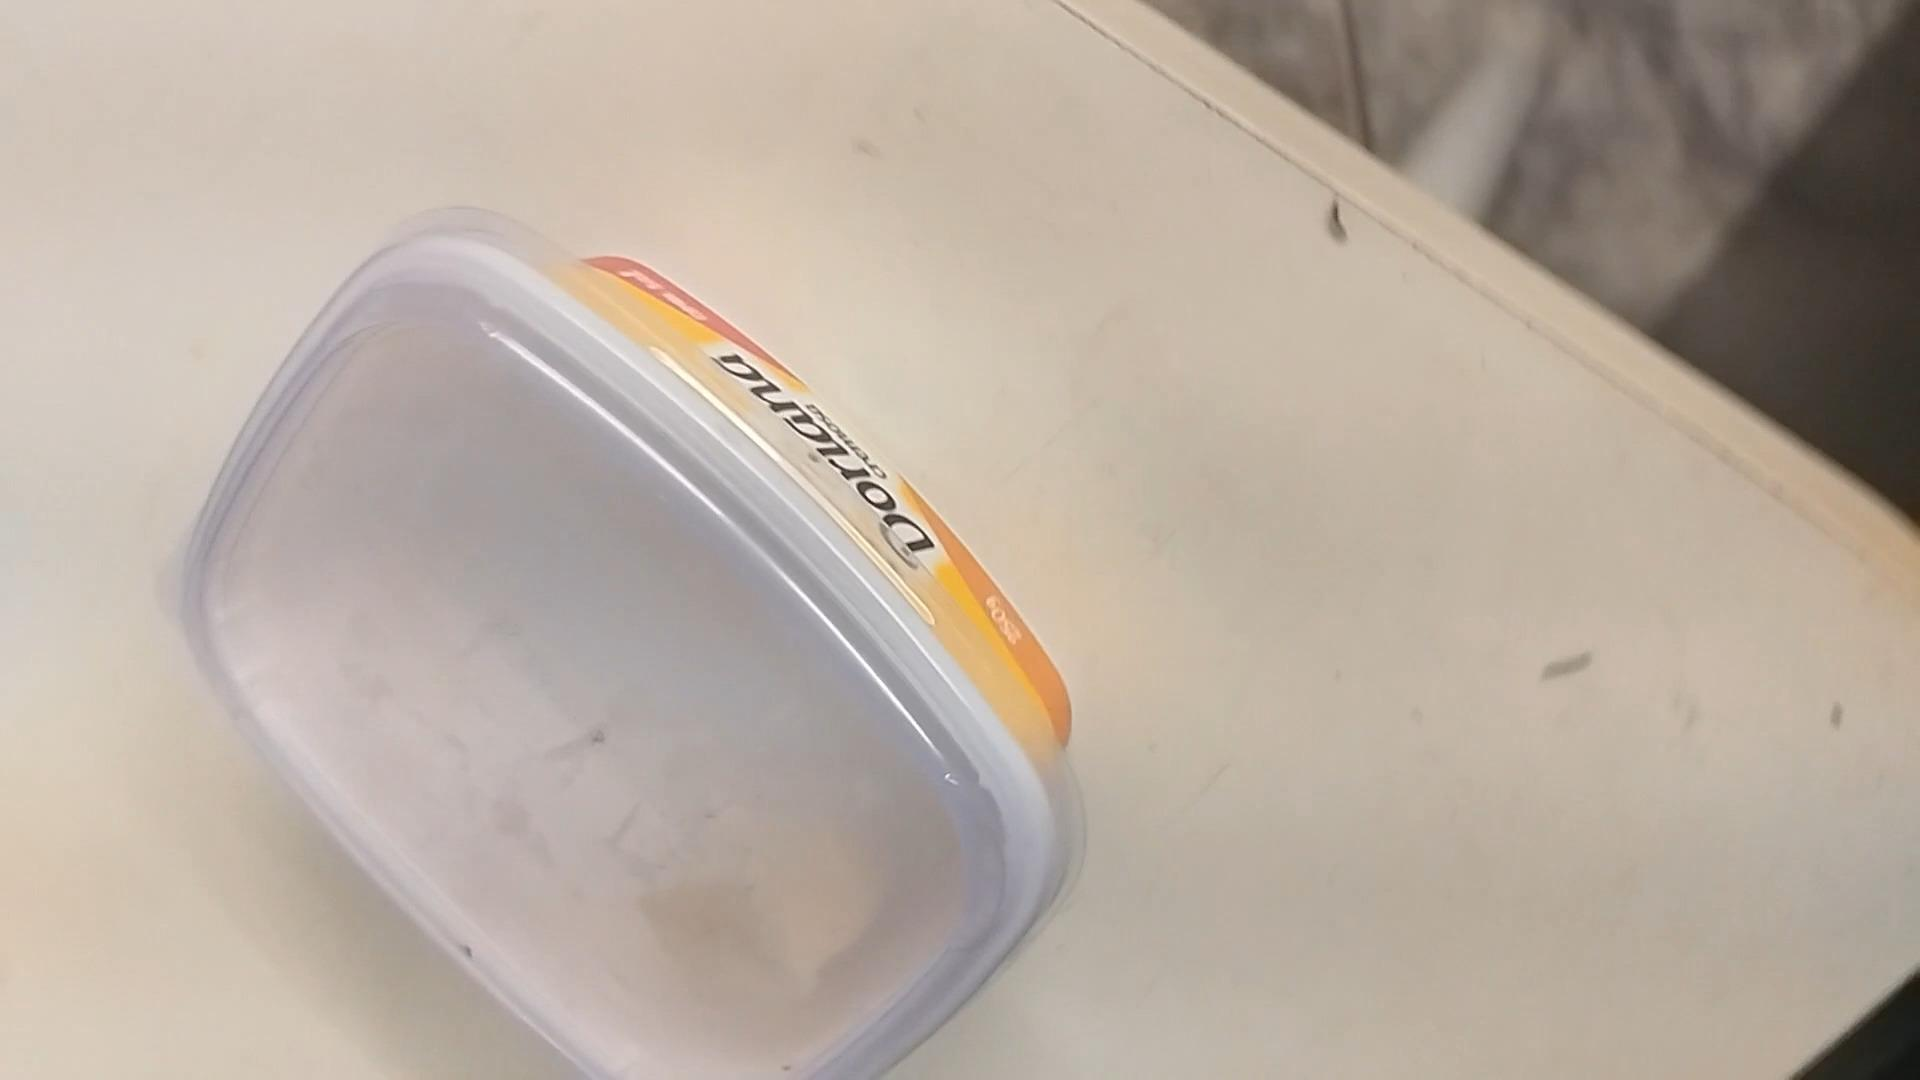butter: (179, 210, 1072, 1077)
